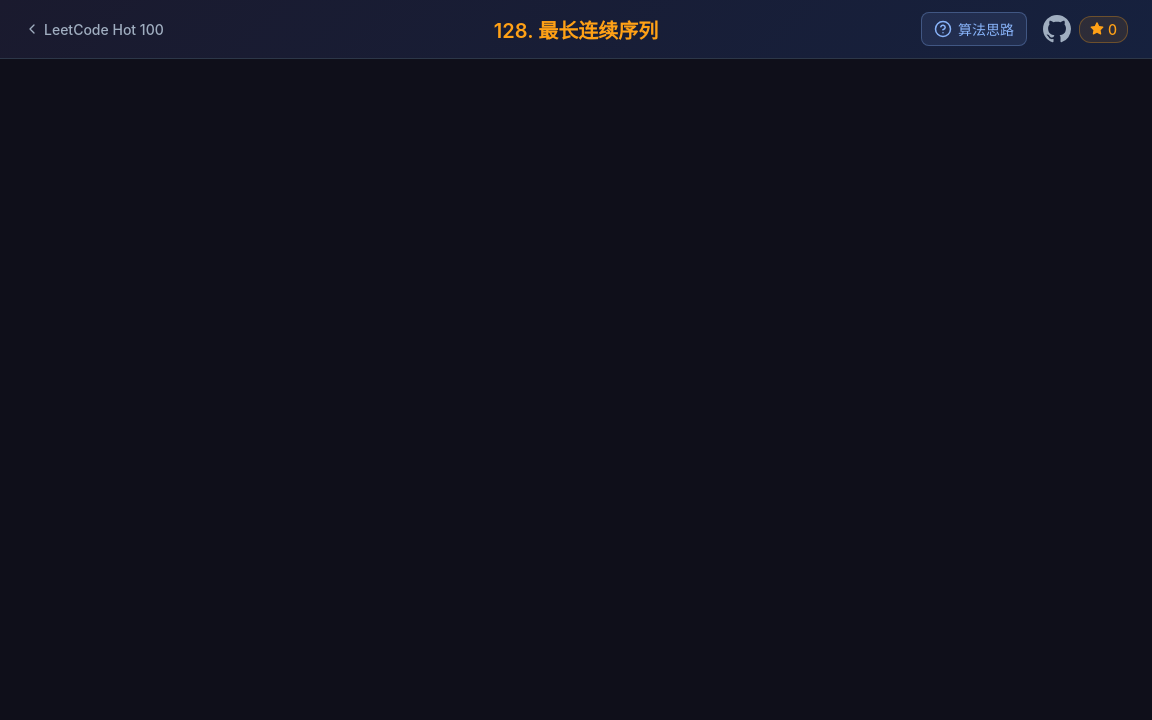
Header › should open modal when algorithm idea button is clicked
Expected: the text "问题描述" is not shown
// Click the button
Click the button "算法思路".
click(974, 29)  # box [921, 12, 1027, 46]
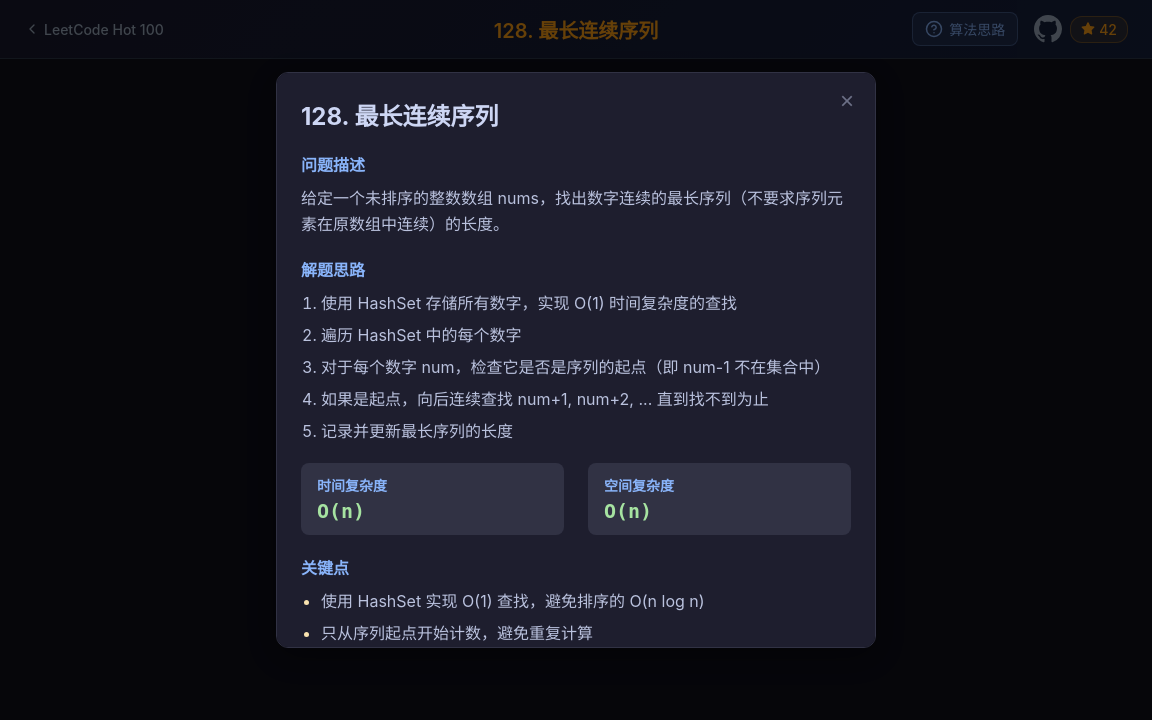
Now the heading "问题描述" is shown, box [301, 155, 365, 175]
